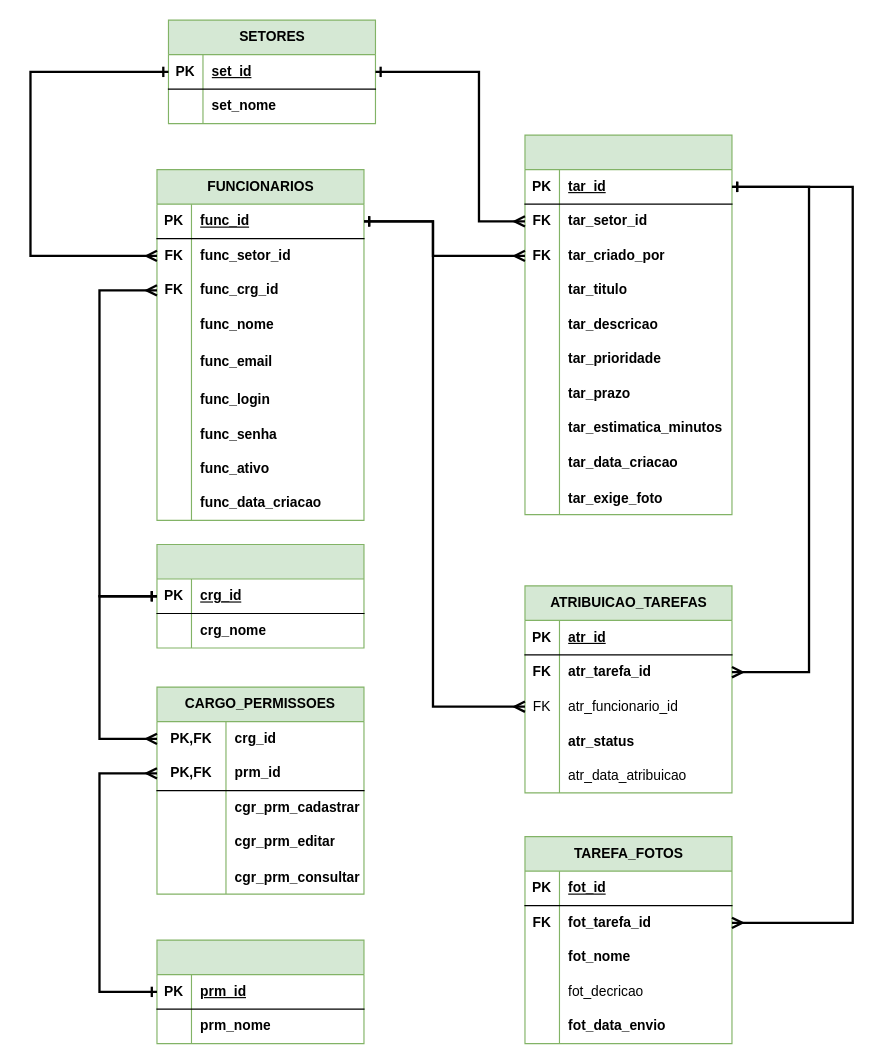
This 883x1064 diagram has some shape labels left out. The box of each missing label's shape, as (x1, y1, x2, y2) in pixels:
CARGOS: (156, 543, 364, 648)
PERMISSOES: (156, 939, 364, 1044)
TAREFAS: (524, 134, 732, 515)
